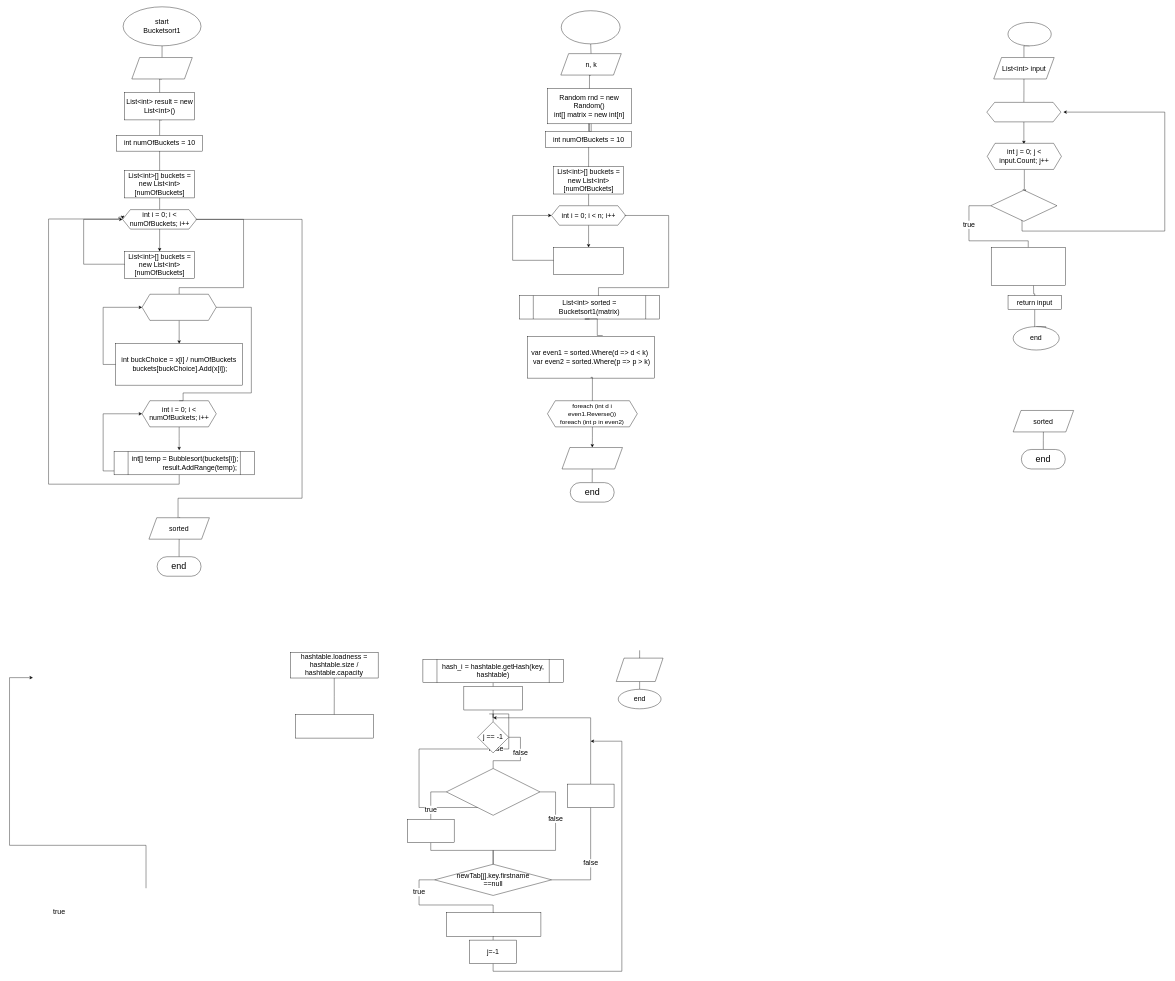
This 1175x981 diagram has some shape labels left out. Each missing label, with the centre of its shape:
"Bubblesort" belongs at point (1029, 34).
"hashtable" belongs at point (639, 670).
"hashtable.table = newTab" belongs at point (334, 726).
"input[i] < input[j]" belongs at point (1023, 205).
"int i = 0; i < input.Count; i++" belongs at point (1023, 112).
"int i = 0; i < x.Length; i++" belongs at point (179, 307).
"int temp = input[i] input[i]= input[j] input[j] = temp" belongs at point (1028, 266).
"j = 0" belongs at point (430, 831).
"j = hash_i" belongs at point (492, 698).
"j++" belongs at point (590, 795).
"j==hashtable.capacity" belongs at point (493, 791).
"matrix[i] = rnd.Next(1, 100);" belongs at point (588, 261).
"newTab[j]=hashtable.table[i]" belongs at point (493, 924).
"params int[] x" belongs at point (161, 68).
"start" belongs at point (590, 27).
"var even1, var even2" belongs at point (592, 458).
